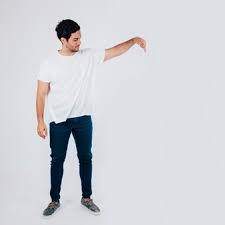hand: (132, 34, 155, 58)
